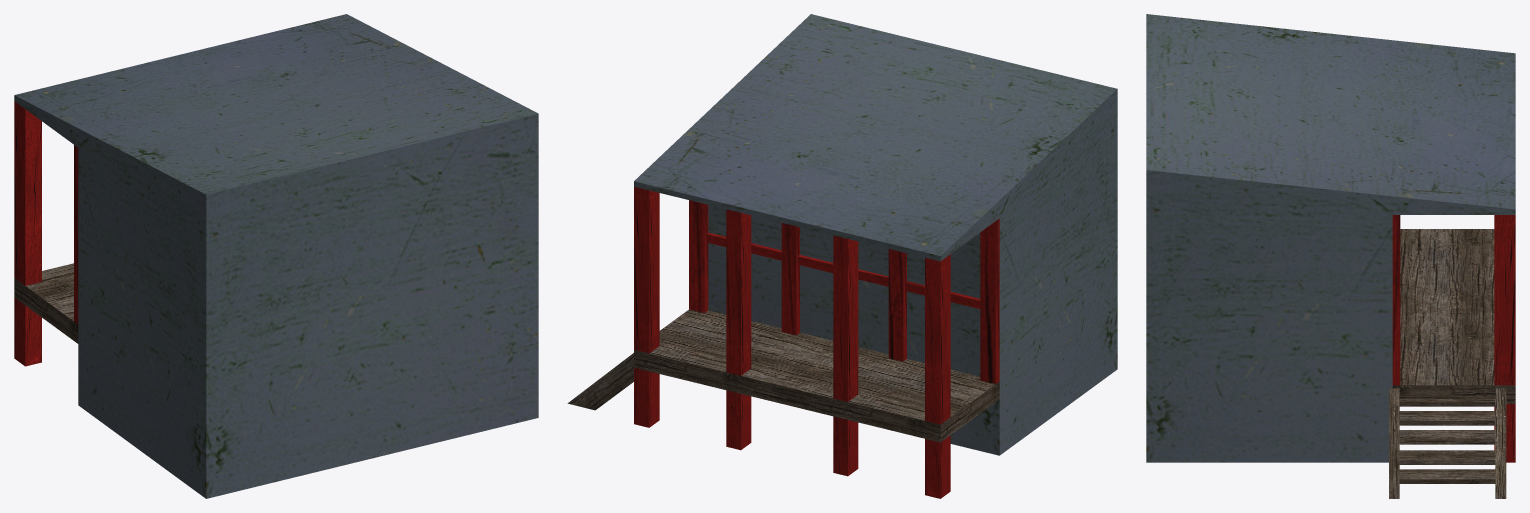
File: House01SlideJumpHighJump01.fbx
3 renders of one model, left to right at view 1: azimuth 30°, elevation 25°; view 2: azimuth 150°, elevation 25°; view 3: azimuth 270°, elevation 25°, orthographic. The views are drawn at different scales.
Visible parts, largest first — view 1: Cube_001; view 2: Cube_001, Cube_002; view 3: Cube_001, Cube_002.
Boxes of the visible parts, <box> form: Cube_001: <box>14,14,538,498</box>; Cube_001: <box>634,14,1117,498</box>; Cube_002: <box>567,353,633,410</box>; Cube_001: <box>1146,14,1515,462</box>; Cube_002: <box>1389,388,1506,498</box>.
Size of the model in its own units: 766 by 544 by 622.
